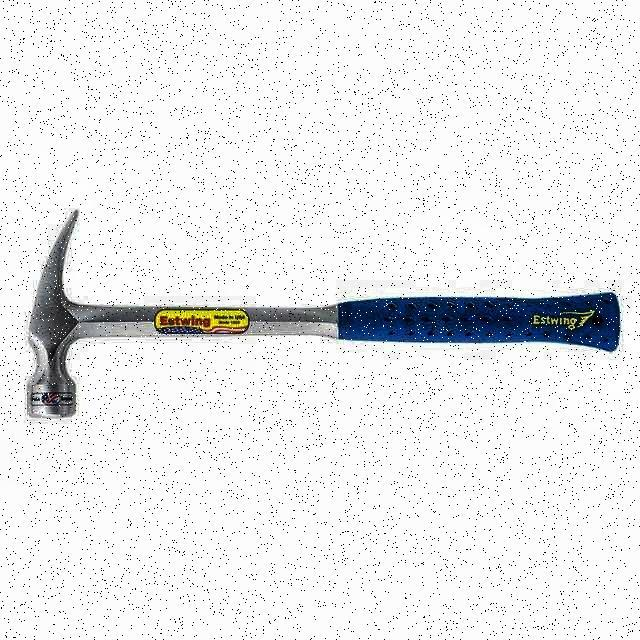hammer: (26, 208, 621, 418)
